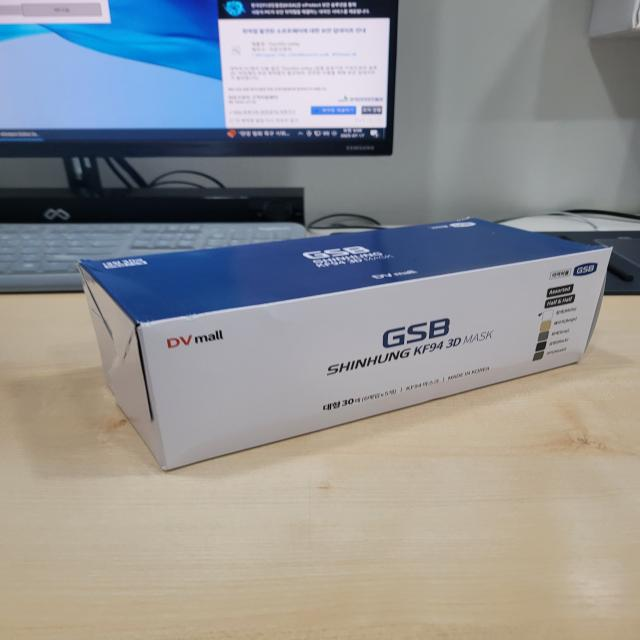mask: (26, 194, 628, 492)
